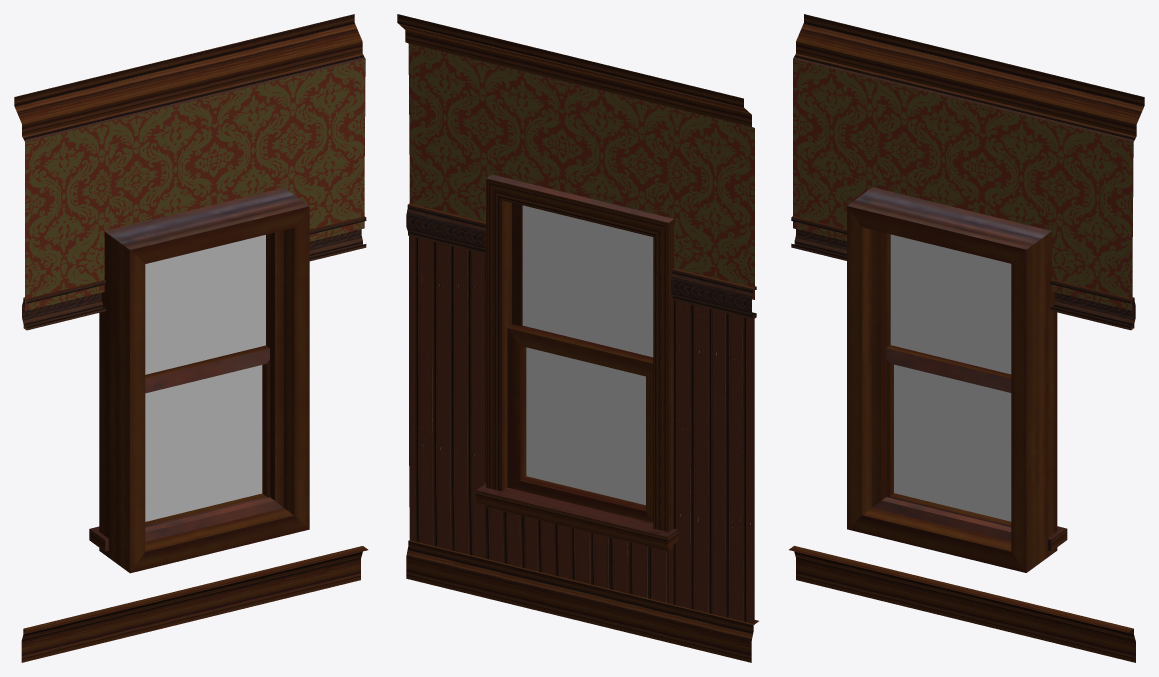
Rendered from Wall2Window.fbx.
The picture shows the model from 3 angles, left to right: view 1: azimuth 30°, elevation 25°; view 2: azimuth 150°, elevation 25°; view 3: azimuth 330°, elevation 25°; orthographic projection.
Parts seen in each view (by area): view 1: Wall2WindowREG; view 2: Wall2WindowREG; view 3: Wall2WindowREG.
Part boxes in pixels (x1,y1,x2,y2): Wall2WindowREG: (14, 14, 367, 662); Wall2WindowREG: (397, 14, 758, 662); Wall2WindowREG: (789, 14, 1144, 662).
Size of the model in its own units: 179 by 281 by 33.18.
